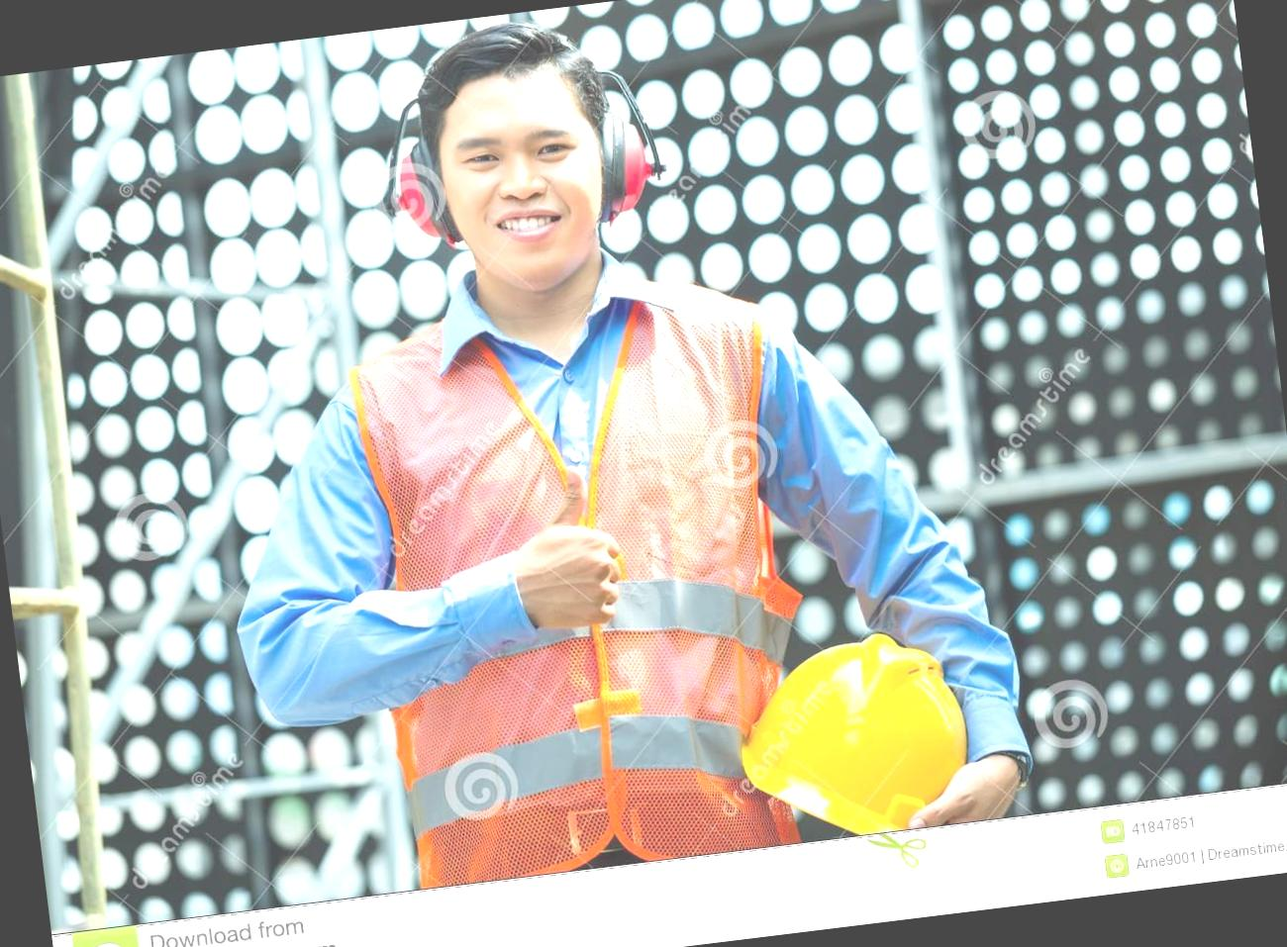helmet: (723, 611, 978, 852)
person: (165, 0, 1042, 928)
